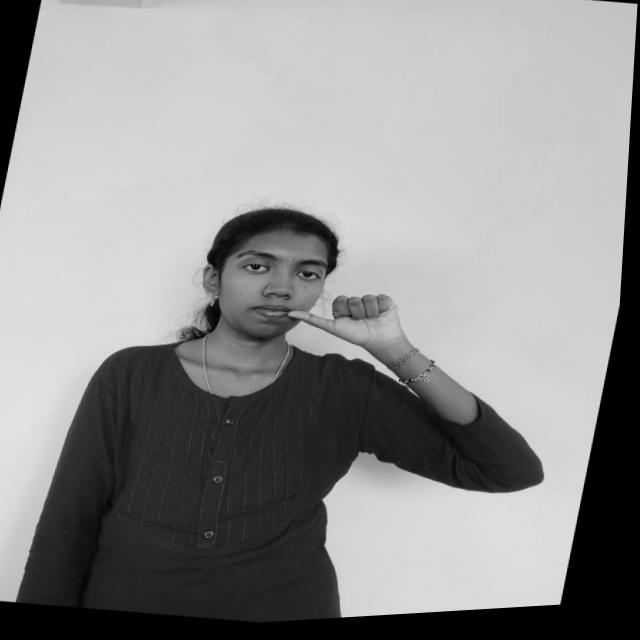Drink: (276, 272, 433, 372)
